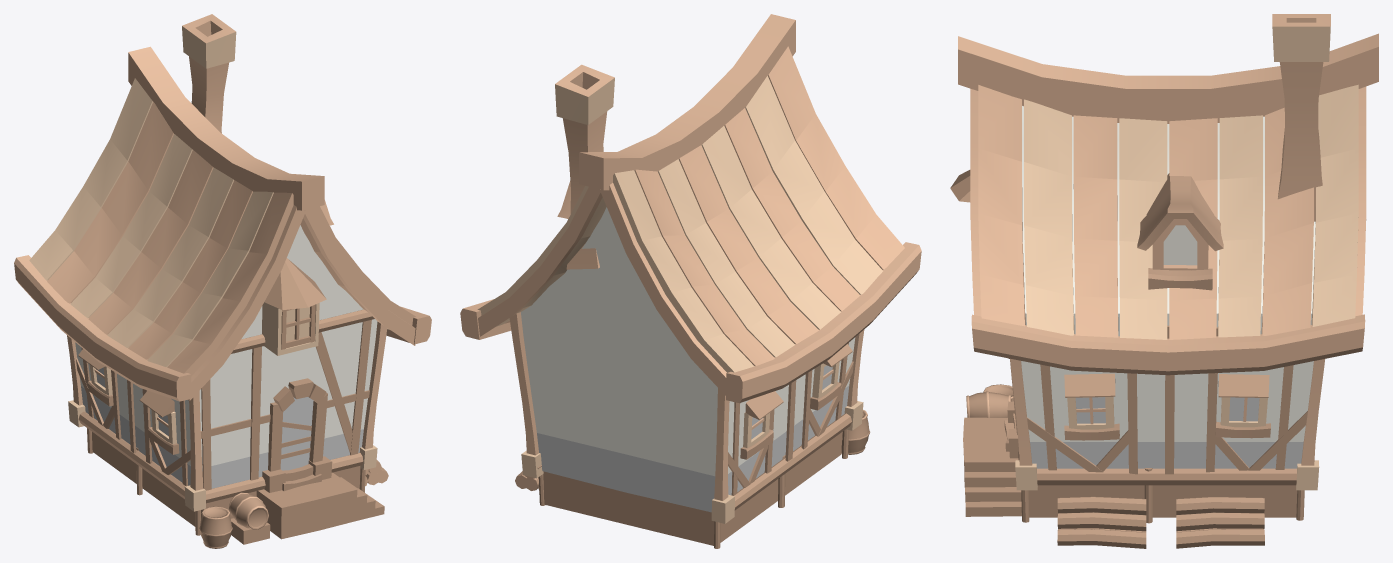
The model's file is house01level02.fbx.
3 views of the same model, side by side, from view 1: azimuth 30°, elevation 25°; view 2: azimuth 150°, elevation 25°; view 3: azimuth 270°, elevation 25° (orthographic). The views are drawn at different scales.
Visible parts, largest first — view 1: part1_06, part1_03, part1_02, part1_04, polySurface272, polySurface248, polySurface256, part_1_01, polySurface271, win_01, win_02; view 2: part1_06, part1_03, part_1_01, part1_02, polySurface256, win_02, win_01, polySurface271; view 3: part1_06, part1_03, polySurface268, part1_02, polySurface256, polySurface254, part_1_01, polySurface272, win_03, win_04, polySurface271, part1_04.
Part boxes in pixels (<box>): part1_06: <box>14,46,431,401</box>; part1_03: <box>75,225,377,490</box>; part1_02: <box>67,309,387,511</box>; part1_04: <box>262,378,332,492</box>; polySurface272: <box>256,472,384,539</box>; polySurface248: <box>262,258,326,355</box>; polySurface256: <box>182,14,236,133</box>; part_1_01: <box>87,428,365,535</box>; polySurface271: <box>199,492,270,548</box>; win_01: <box>139,390,179,454</box>; win_02: <box>78,349,113,406</box>; part1_06: <box>460,14,921,403</box>; part1_03: <box>521,207,855,512</box>; part_1_01: <box>538,429,848,548</box>; part1_02: <box>509,312,864,523</box>; polySurface256: <box>555,64,614,269</box>; win_02: <box>740,391,783,459</box>; win_01: <box>810,344,852,410</box>; polySurface271: <box>841,410,870,454</box>; part1_06: <box>958,33,1378,375</box>; part1_03: <box>1021,106,1315,474</box>; polySurface268: <box>1057,496,1264,548</box>; part1_02: <box>1010,358,1325,490</box>; polySurface256: <box>1272,14,1330,221</box>; polySurface254: <box>1137,173,1223,290</box>; part_1_01: <box>1021,468,1304,523</box>; polySurface272: <box>963,417,1021,516</box>; win_03: <box>1064,373,1119,440</box>; win_04: <box>1215,374,1270,438</box>; polySurface271: <box>966,384,1013,417</box>; part1_04: <box>1004,358,1018,458</box>.
Size of the model in its own units: 8.55 by 12.81 by 10.24.
